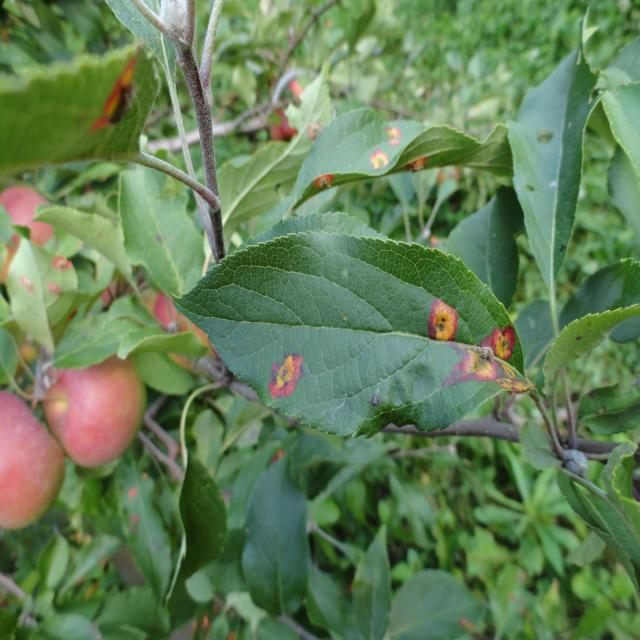rust: (170, 229, 534, 440)
